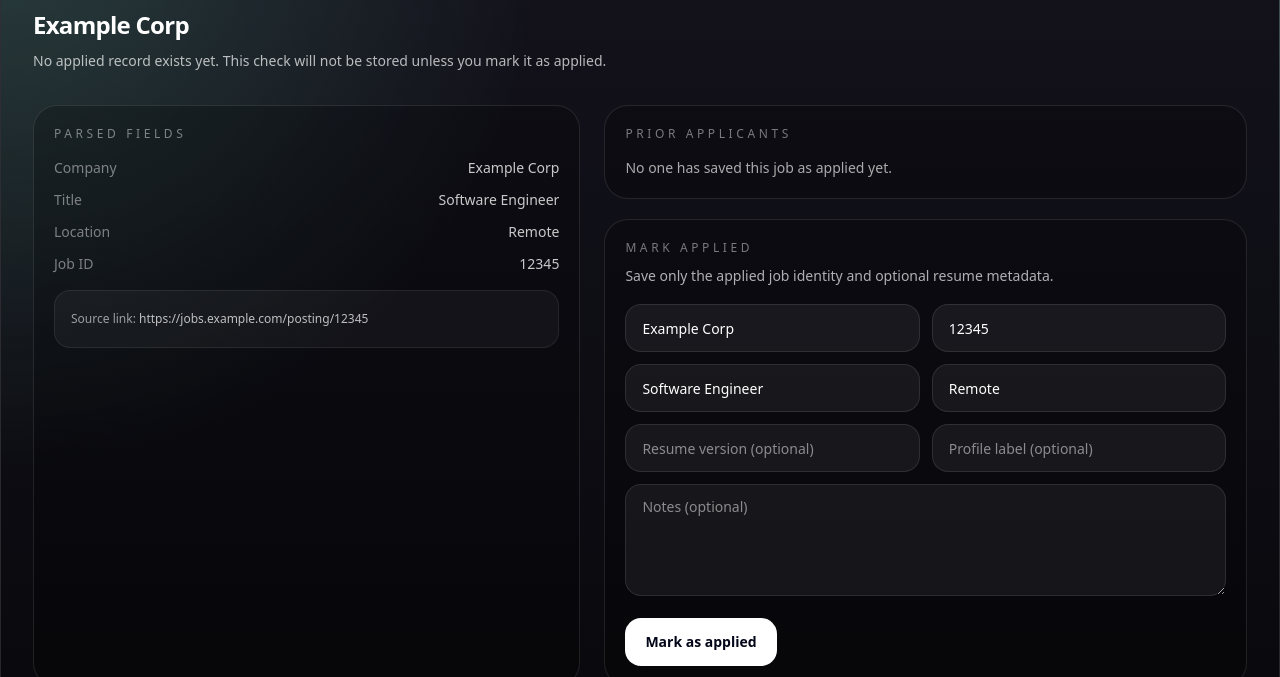
Test: ExtensionJobChecker › mark-applied form submission › shows save error on network failure during mark-applied
The image size is (1280, 677).
(page scrolled)
Step 1. Click the button "Mark as applied" → (701, 642), box [625, 618, 777, 666]
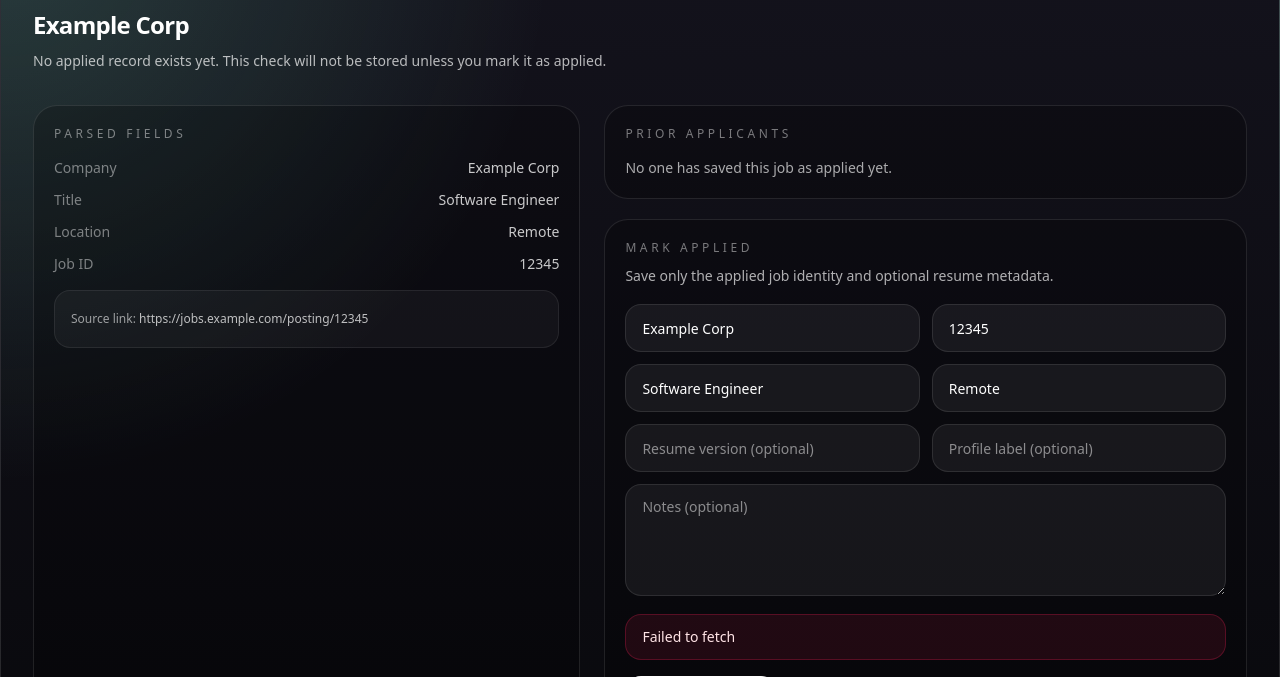
expect the text "Failed to fetch" is shown: met, box [625, 614, 1226, 660]
